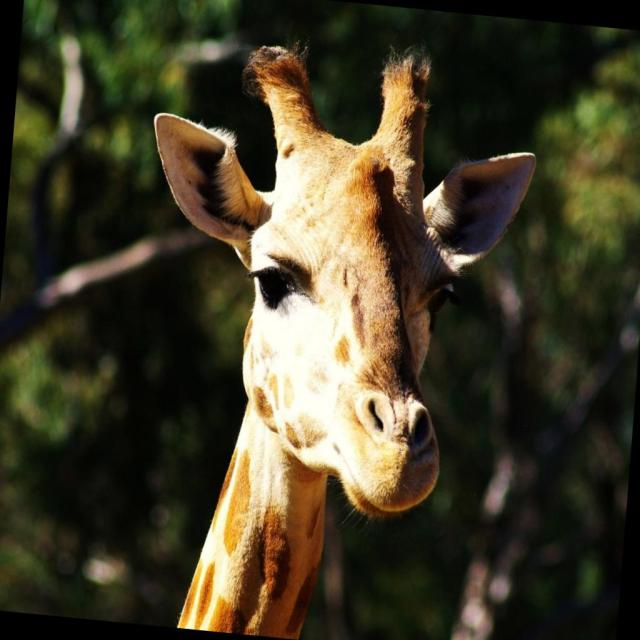Giraffe: (128, 32, 552, 629)
